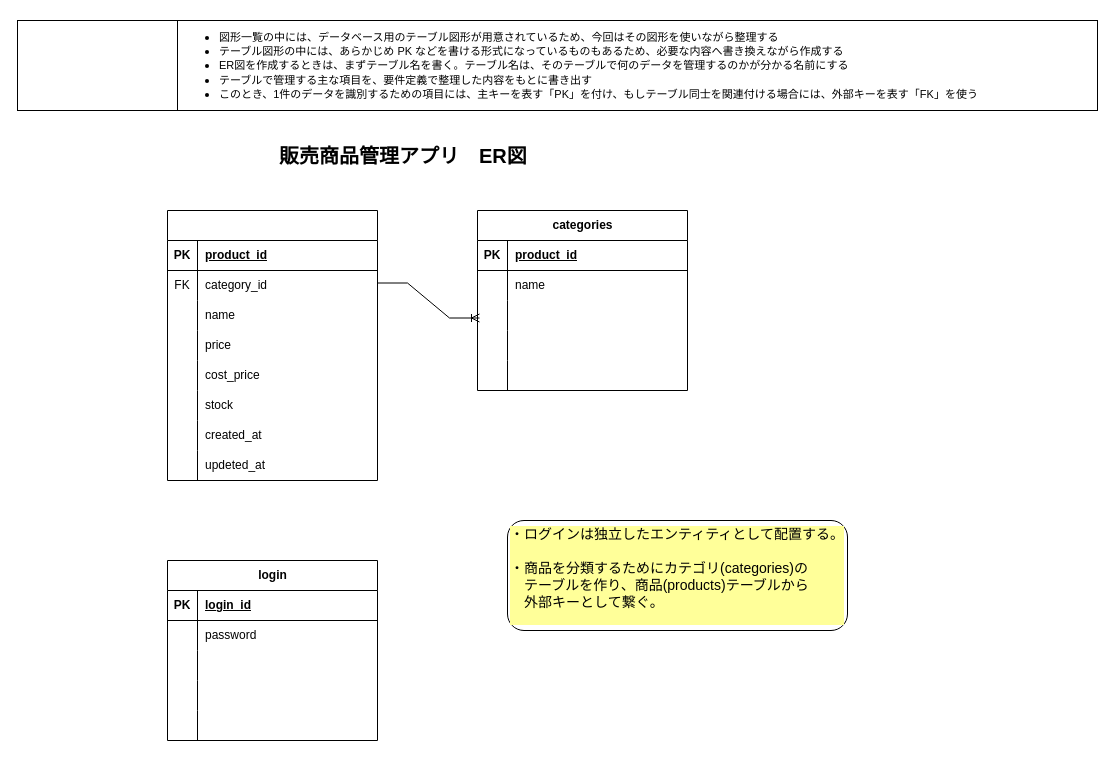
Some shapes in this 1115 by 758 pixel diagram are drawn without their labels. The shapes that lost their labels are listed below. From the top down, each one's box as (x1, y1, x2, y2) in pixels, then its label:
(16, 20, 178, 110): ER図
(166, 210, 378, 480): products
